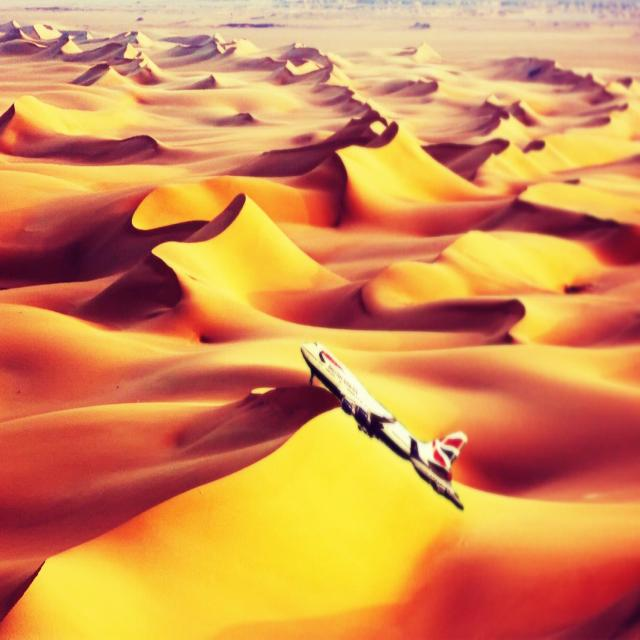airplane: (300, 339, 468, 511)
